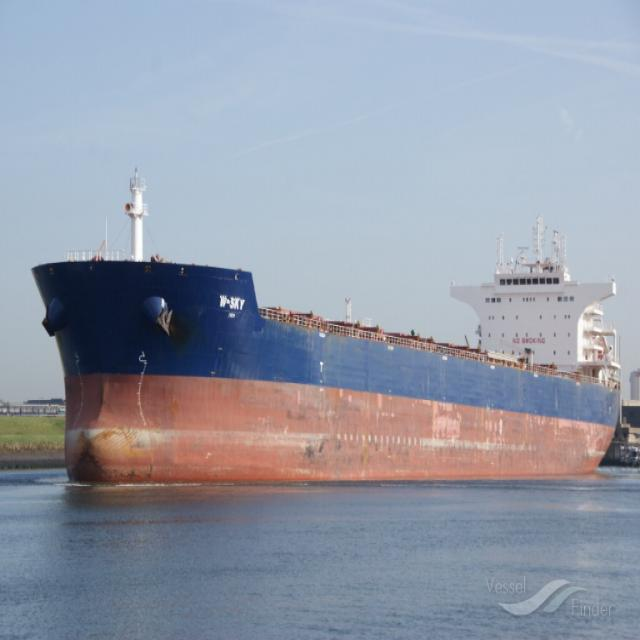OCR: (211, 288, 246, 310)
